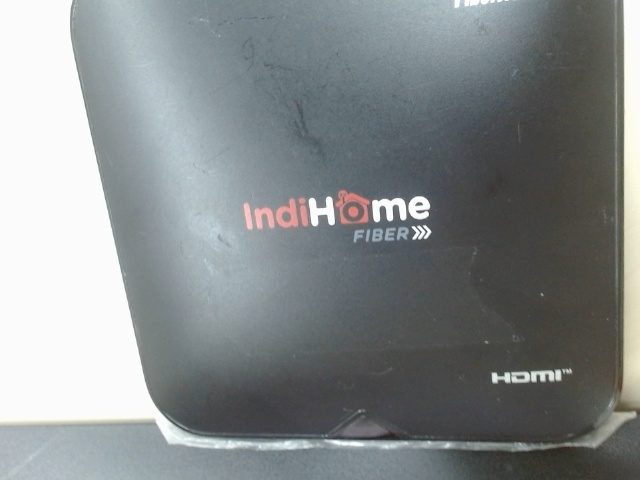AF_IndiHome: (233, 176, 442, 256)
